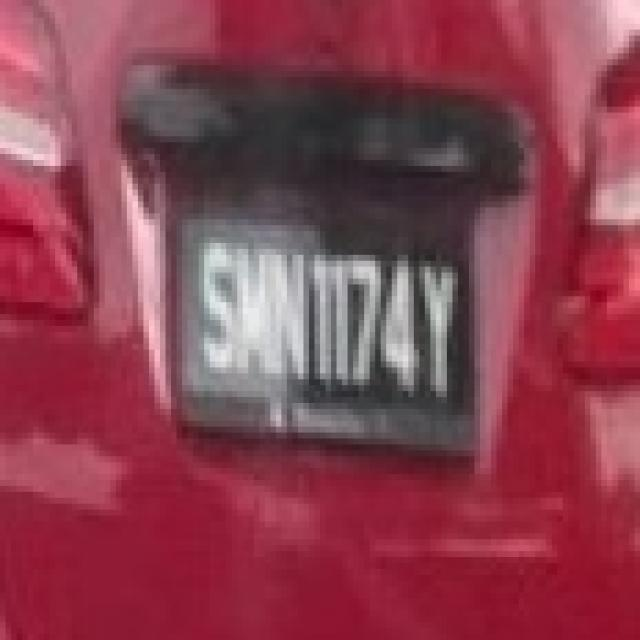1: (310, 255, 334, 386), (332, 250, 350, 388)
4: (384, 256, 424, 396)
7: (350, 255, 381, 384)
M: (240, 244, 272, 379)
N: (274, 250, 306, 379)
S: (201, 240, 236, 377)
Y: (418, 255, 461, 397)
